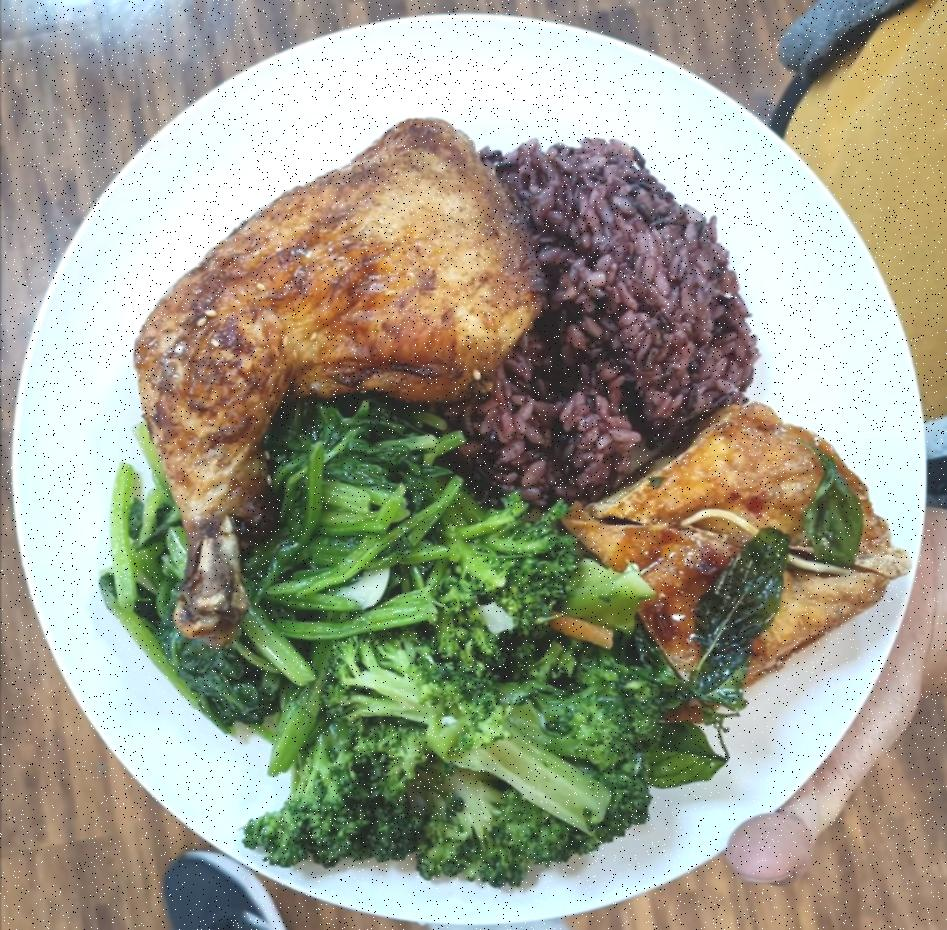big fried chicken leg: (10, 8, 926, 930)
braised fish: (438, 134, 754, 502)
braised fish fillet: (276, 506, 690, 879), (98, 400, 454, 723), (571, 390, 898, 696)
brown rice: (125, 106, 534, 636)
